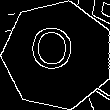O_S: (35, 29, 80, 81)
